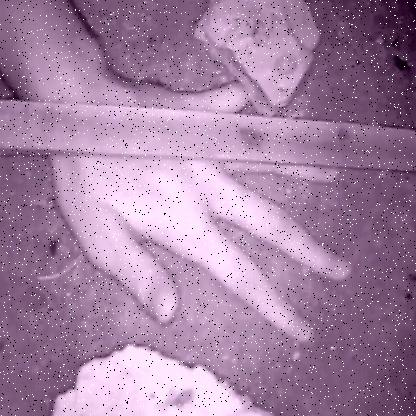hand: (0, 15, 395, 355)
